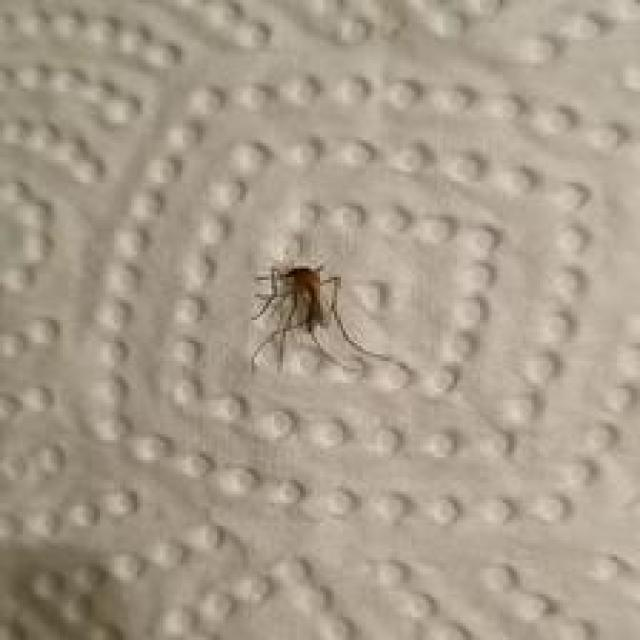Culex: (249, 260, 414, 386)
